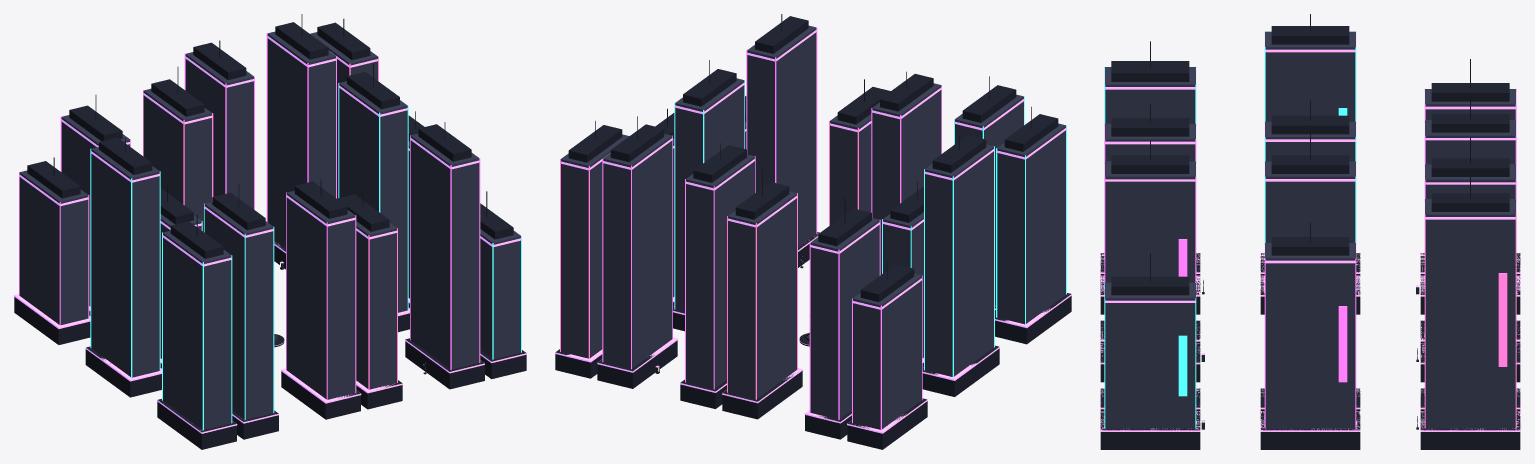
3 views of the same model, side by side, from view 1: azimuth 30°, elevation 25°; view 2: azimuth 150°, elevation 25°; view 3: azimuth 270°, elevation 25° (orthographic). The views are drawn at different scales.
Visible parts, largest first — view 1: district_city_cero.lod0; view 2: district_city_cero.lod0; view 3: district_city_cero.lod0.
Boxes of the visible parts, x1,y1,x2,y2 form: district_city_cero.lod0: (14, 14, 526, 449); district_city_cero.lod0: (555, 14, 1071, 449); district_city_cero.lod0: (1100, 14, 1520, 449).
Size of the model in its own units: 97.1 by 72.28 by 97.1.
